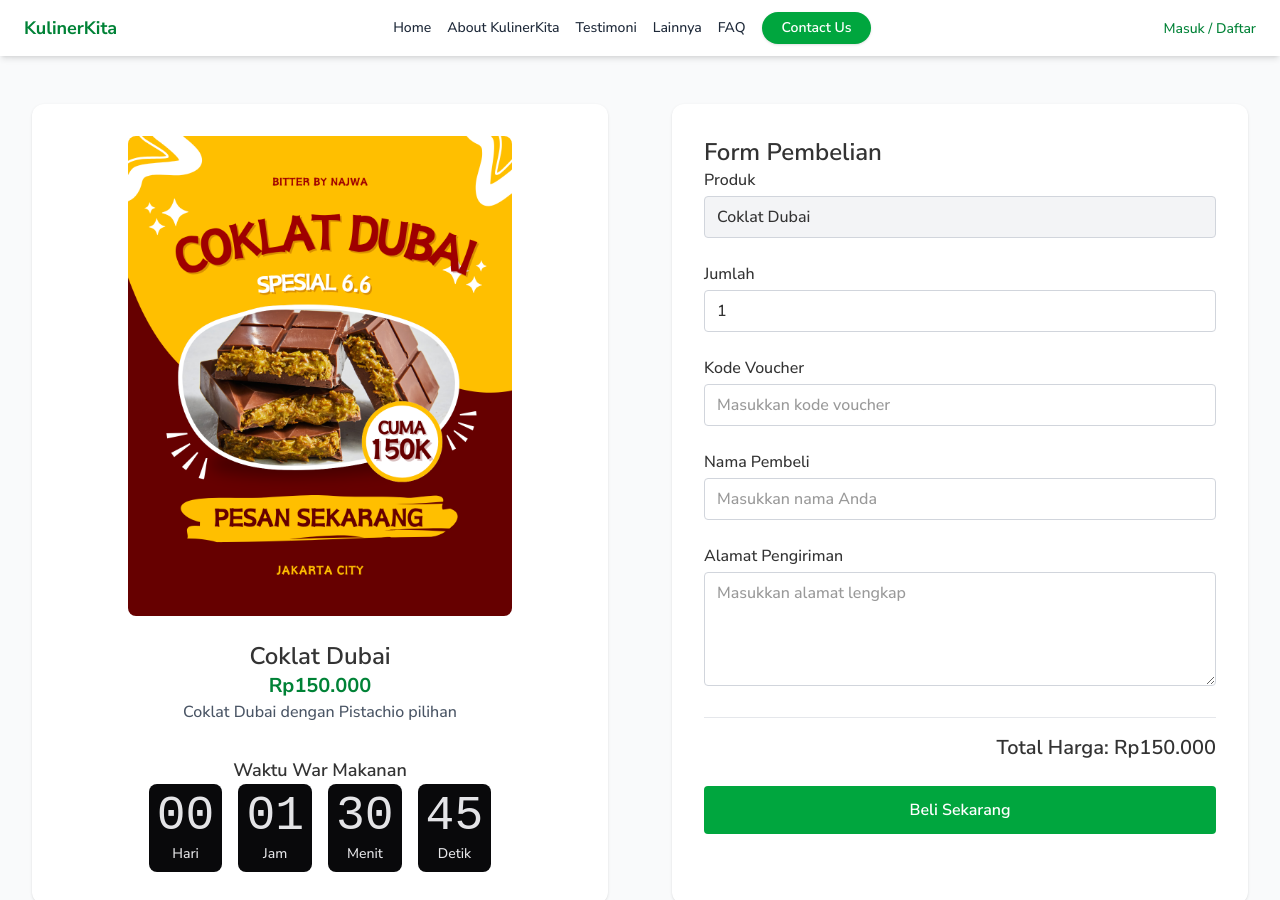
Test: SimulasiWar Component › Menggunakan voucher DUBAI75 mengurangi harga
Type "DUBAI75" into the field labelled "Kode Voucher".
click(960, 405); type("DUBAI75")  # box [704,384,1216,426]
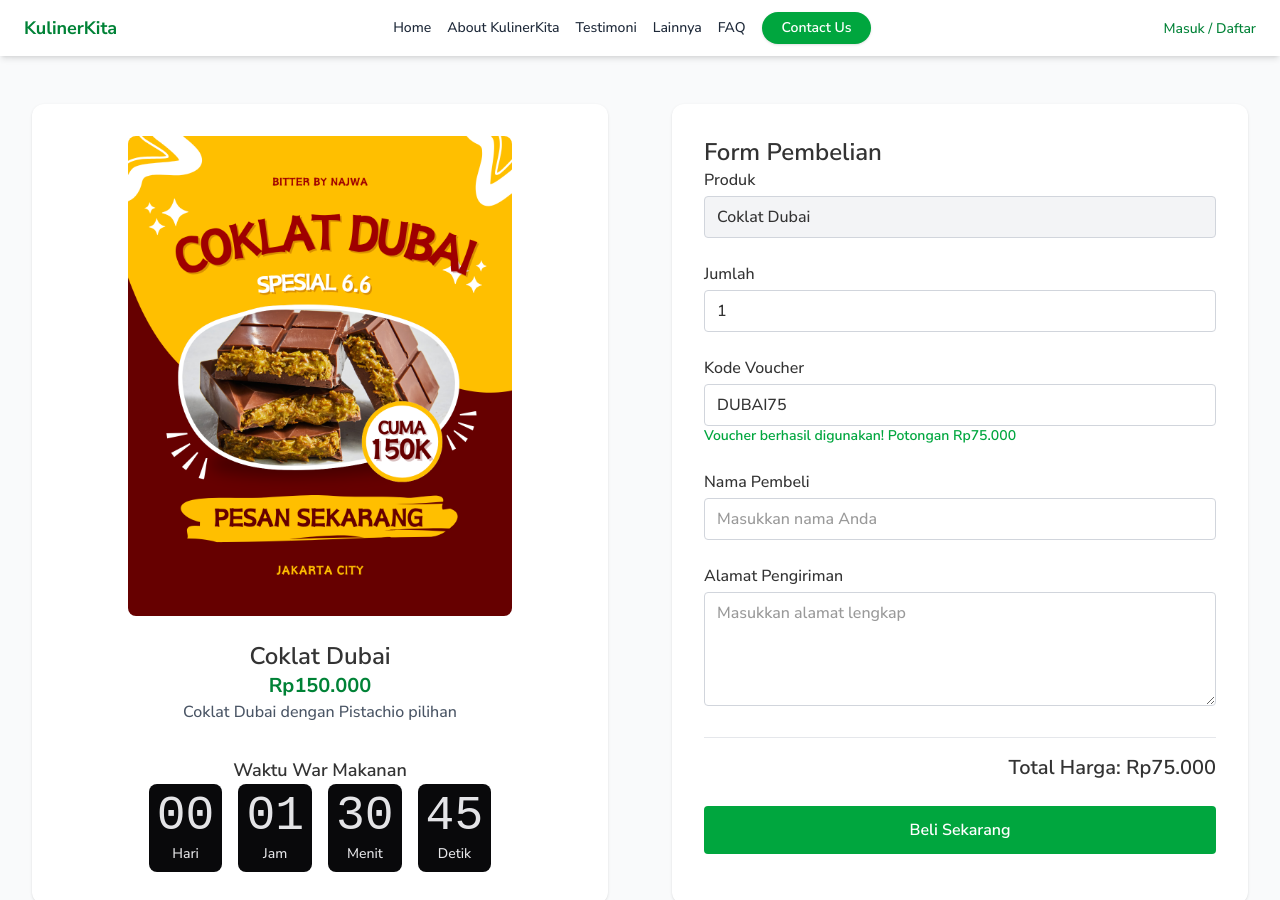
Now the text "Voucher berhasil digunakan! Potongan Rp75.000" is shown, box [704,426,1016,445]
Now the text "Total Harga: Rp75.000" is shown, box [704,737,1216,782]
